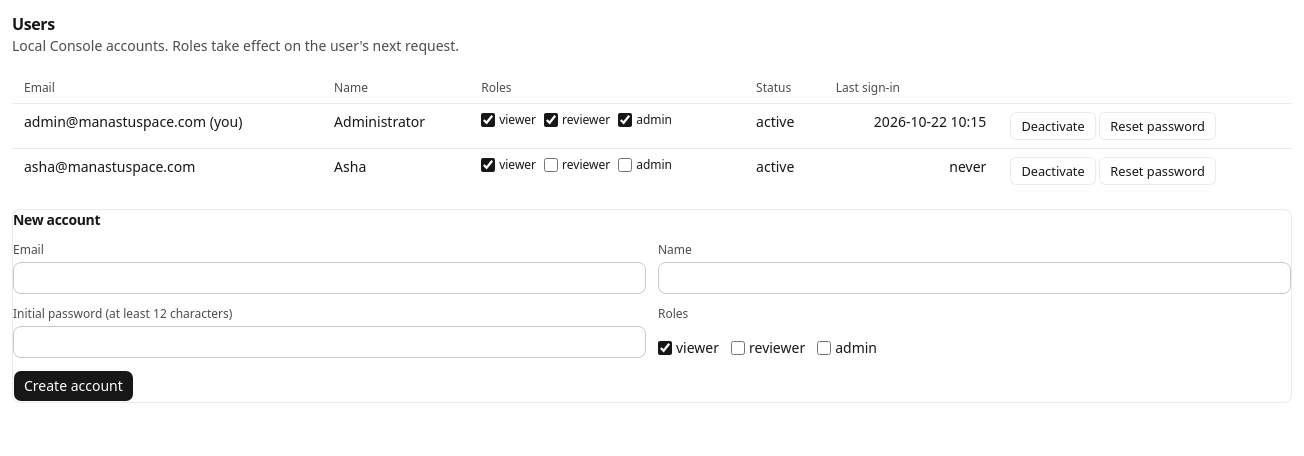
Scenario: UsersAdmin › adds a role with a PATCH of the full role list
Expected: the text "asha@manastuspace.com" is shown, x1=12 y1=149 x2=322 y2=193
Click the checkbox labelled "reviewer" in the row of "asha@manastuspace.com": coordinates (551, 165) x1=544 y1=158 x2=558 y2=172
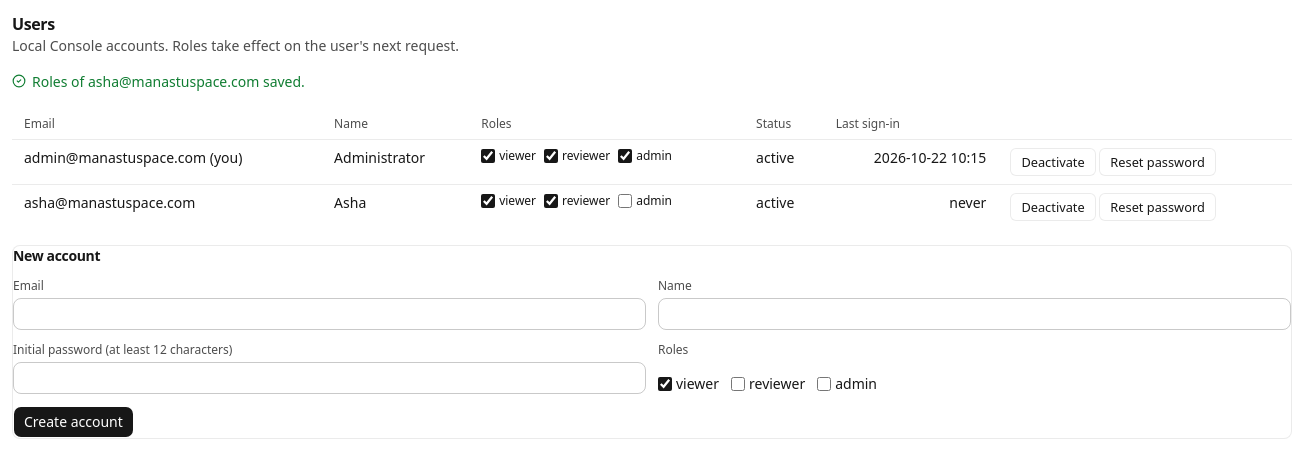
Now the text "Roles of asha@manastuspace.com saved." is shown, box x1=32 y1=72 x2=305 y2=92
